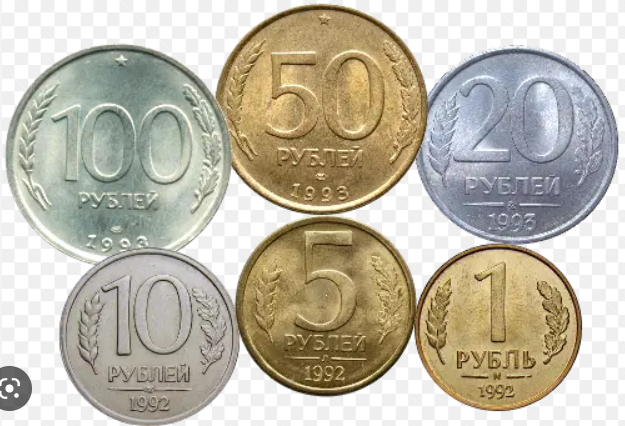coin: (6, 45, 230, 264), (220, 3, 429, 213), (421, 47, 619, 243), (236, 215, 416, 395), (58, 248, 240, 426), (415, 244, 584, 411)
